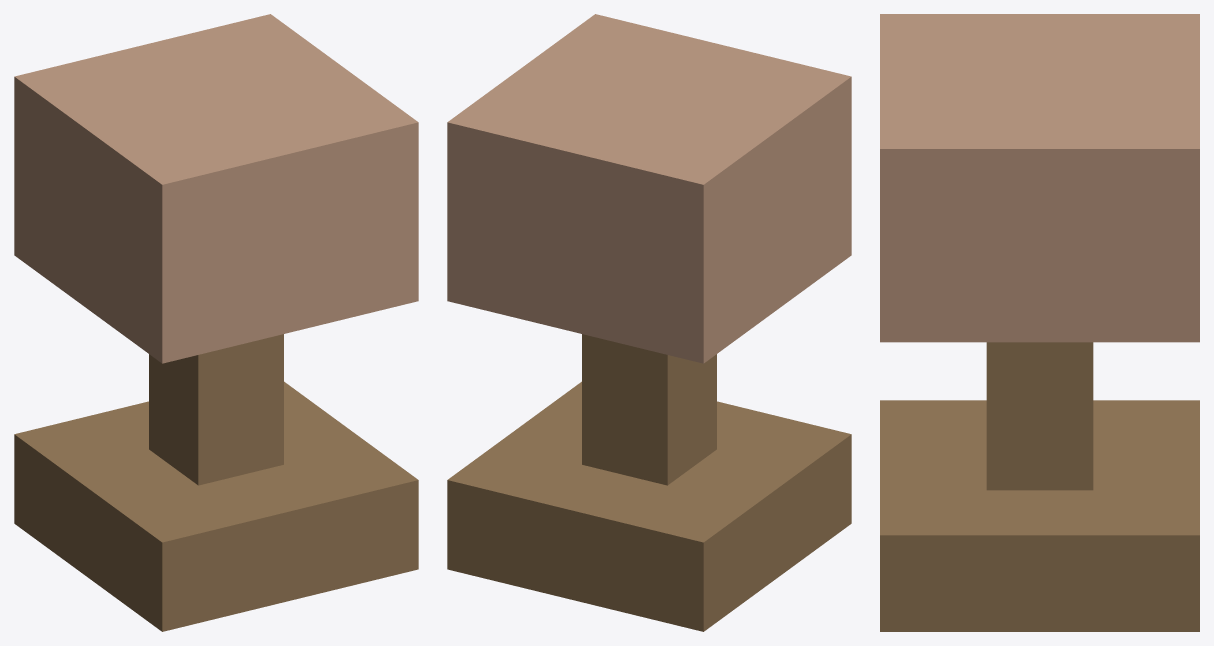
Rendered from Corner Cafe-12.obj.
3 renders of one model, left to right at view 1: azimuth 30°, elevation 25°; view 2: azimuth 150°, elevation 25°; view 3: azimuth 270°, elevation 25°, orthographic. The views are drawn at different scales.
Size of the model in its own units: 0.3 by 0.5 by 0.3.
Materials: 1 (1 with a texture image).
